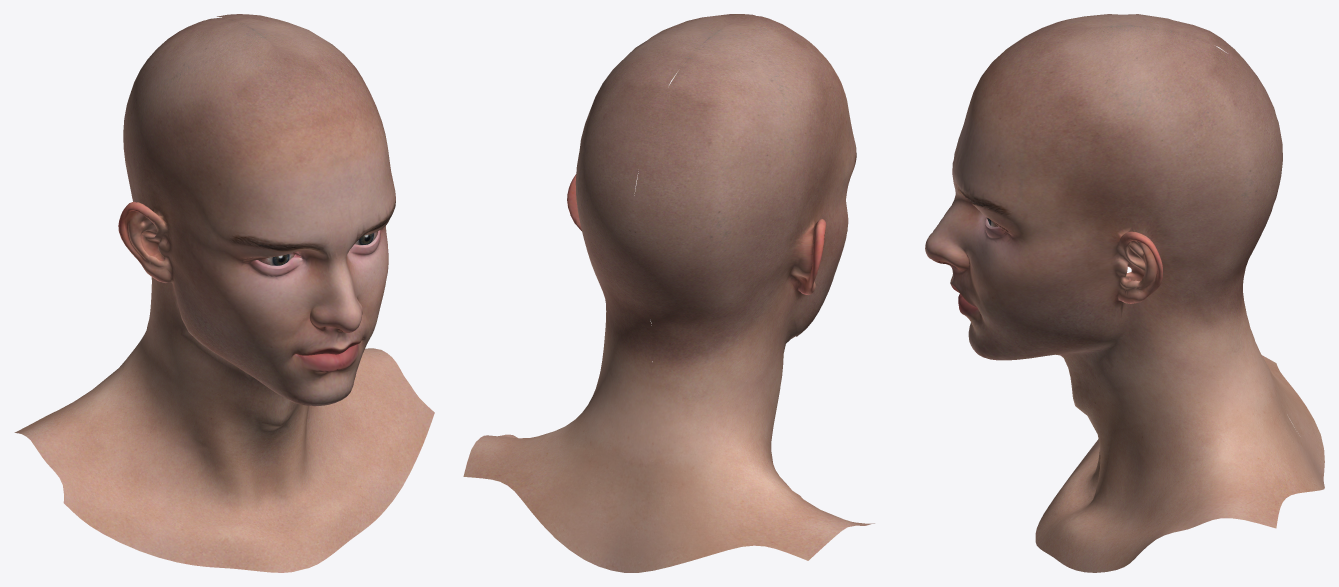
The picture shows the model from 3 angles, left to right: view 1: azimuth 30°, elevation 25°; view 2: azimuth 150°, elevation 25°; view 3: azimuth 270°, elevation 25°; orthographic projection. The views are drawn at different scales.
Parts seen in each view (by area): view 1: Object_2; view 2: Object_2; view 3: Object_2.
Boxes of the visible parts, bbox=[...] form: Object_2: bbox=[14, 14, 434, 572]; Object_2: bbox=[463, 14, 874, 572]; Object_2: bbox=[925, 14, 1324, 572].
Size of the model in its own units: 25.9 by 33.75 by 23.88.
1 material, 1 textured.
